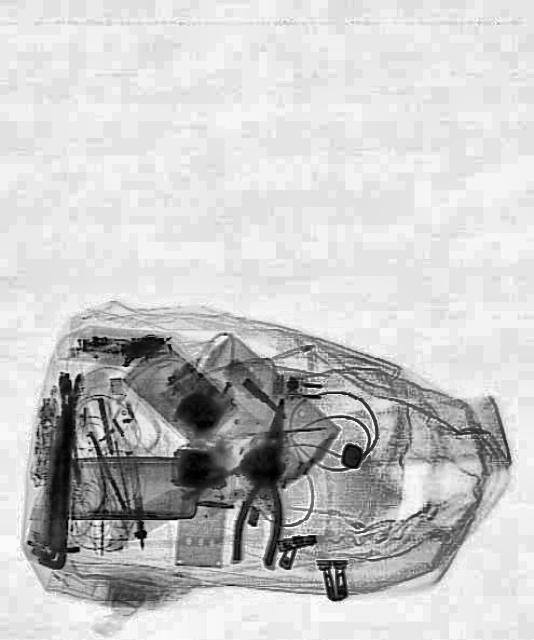Pliers: (228, 394, 304, 568)
